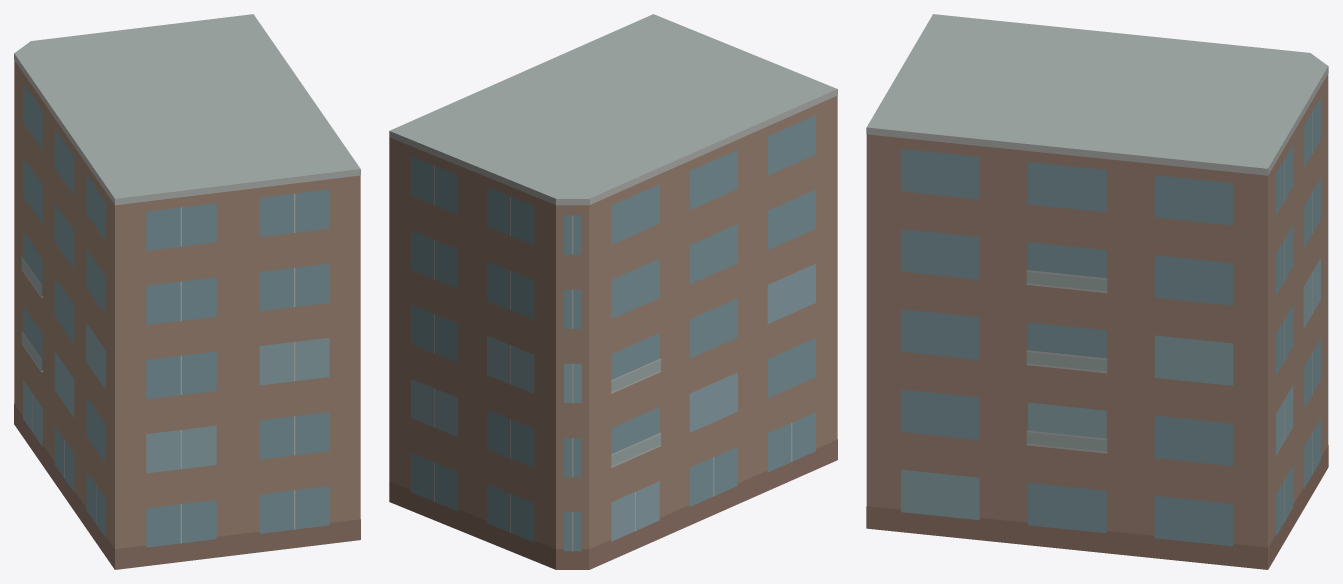
File: survey-upis-32878429.glb
3 renders of one model, left to right at view 1: azimuth 30°, elevation 25°; view 2: azimuth 150°, elevation 25°; view 3: azimuth 270°, elevation 25°, orthographic. The views are drawn at different scales.
Visible parts, largest first — view 1: survey-upis-32878429.tmp; view 2: survey-upis-32878429.tmp; view 3: survey-upis-32878429.tmp.
Boxes of the visible parts, bbox=[...] form: survey-upis-32878429.tmp: bbox=[14, 14, 360, 569]; survey-upis-32878429.tmp: bbox=[389, 14, 837, 569]; survey-upis-32878429.tmp: bbox=[866, 14, 1328, 569].
Size of the model in its own units: 11.77 by 14.2 by 14.84.
